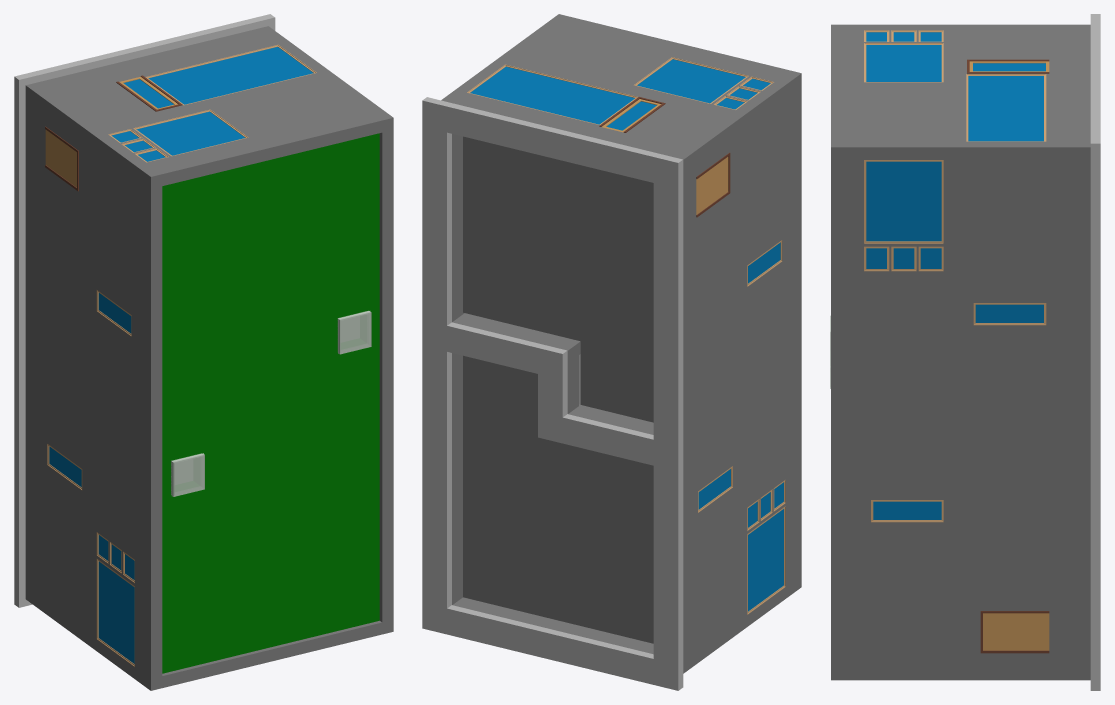
Rendered from DuplexNew.obj.
3 views of the same model, side by side, from view 1: azimuth 30°, elevation 25°; view 2: azimuth 150°, elevation 25°; view 3: azimuth 270°, elevation 25° (orthographic). The views are drawn at different scales.
Parts seen in each view (by area): view 1: Basic_Roof:Live_Roof_over_Wood_Joist_Flat_Roof:184483, Basic_Wall:Exterior_-_Brick_on_Block:138310, Basic_Wall:Exterior_-_Brick_on_Block:143590, Basic_Wall:Exterior_-_Brick_on_Block:185101, Basic_Wall:Foundation_-_Concrete_(417mm):140602, Basic_Wall:Exterior_-_Brick_on_Block:143410, Basic_Wall:Exterior_-_Brick_on_Block:185014, Basic_Wall:Exterior_-_Brick_on_Block:138062, Wall_Foundation:Bearing_Footing_-_900_x_300:186612, Basic_Wall:Exterior_-_Brick_on_Block:184944, Basic_Wall:Foundation_-_Concrete_(417mm):140479, M_Fixed:4835mm_x_2420mm:4835mm_x_2420mm:145788 (+11 smaller); view 2: Floor:127mm_Slab_on_Grade:143106, Floor:127mm_Slab_on_Grade:141232, Basic_Wall:Exterior_-_Brick_on_Block:138310, Basic_Wall:Exterior_-_Brick_on_Block:143590, Wall_Foundation:Bearing_Footing_-_900_x_300:186612, Wall_Foundation:Bearing_Footing_-_900_x_300:186596, Basic_Wall:Exterior_-_Brick_on_Block:143410, Wall_Foundation:Bearing_Footing_-_900_x_300:186604, Basic_Wall:Foundation_-_Concrete_(417mm):140602, Basic_Wall:Exterior_-_Brick_on_Block:138062, Wall_Foundation:Bearing_Footing_-_900_x_300:186620, M_Fixed:4835mm_x_2420mm:4835mm_x_2420mm:145788 (+18 smaller); view 3: Basic_Wall:Exterior_-_Brick_on_Block:138157, Basic_Wall:Exterior_-_Brick_on_Block:143478, Basic_Wall:Foundation_-_Concrete_(417mm):140520, Basic_Wall:Exterior_-_Brick_on_Block:185014, Basic_Wall:Exterior_-_Brick_on_Block:143410, Basic_Wall:Exterior_-_Brick_on_Block:138062, M_Fixed:2800mm_x_2410mm:2800mm_x_2410mm:181096, Wall_Foundation:Bearing_Footing_-_900_x_300:186596, Basic_Wall:Foundation_-_Concrete_(417mm):140479, M_Fixed:4835mm_x_2420mm:4835mm_x_2420mm:145788, M_Fixed:2800mm_x_2410mm:2800mm_x_2410mm:147686, M_Single-Flush:1250mm_x_2010mm:1250mm_x_2010mm:146596 (+8 smaller).
Part boxes in pixels (bbox=[...]): Basic_Roof:Live_Roof_over_Wood_Joist_Flat_Roof:184483: bbox=[162, 133, 379, 673]; Basic_Wall:Exterior_-_Brick_on_Block:138310: bbox=[45, 112, 94, 637]; Basic_Wall:Exterior_-_Brick_on_Block:143590: bbox=[95, 136, 141, 683]; Basic_Wall:Exterior_-_Brick_on_Block:185101: bbox=[141, 182, 162, 678]; Basic_Wall:Foundation_-_Concrete_(417mm):140602: bbox=[25, 97, 45, 601]; Basic_Wall:Exterior_-_Brick_on_Block:143410: bbox=[95, 77, 383, 169]; Basic_Wall:Exterior_-_Brick_on_Block:185014: bbox=[379, 130, 393, 634]; Basic_Wall:Exterior_-_Brick_on_Block:138062: bbox=[45, 40, 337, 147]; Wall_Foundation:Bearing_Footing_-_900_x_300:186612: bbox=[14, 70, 43, 581]; Basic_Wall:Exterior_-_Brick_on_Block:184944: bbox=[141, 110, 393, 188]; Basic_Wall:Foundation_-_Concrete_(417mm):140479: bbox=[25, 26, 287, 111]; M_Fixed:4835mm_x_2420mm:4835mm_x_2420mm:145788: bbox=[145, 44, 316, 105]; Floor:127mm_Slab_on_Grade:143106: bbox=[463, 355, 653, 643]; Floor:127mm_Slab_on_Grade:141232: bbox=[463, 136, 653, 422]; Basic_Wall:Exterior_-_Brick_on_Block:138310: bbox=[696, 126, 745, 651]; Basic_Wall:Exterior_-_Brick_on_Block:143590: bbox=[745, 80, 791, 627]; Wall_Foundation:Bearing_Footing_-_900_x_300:186612: bbox=[653, 153, 683, 664]; Wall_Foundation:Bearing_Footing_-_900_x_300:186596: bbox=[422, 97, 451, 634]; Basic_Wall:Exterior_-_Brick_on_Block:143410: bbox=[503, 21, 791, 113]; Wall_Foundation:Bearing_Footing_-_900_x_300:186604: bbox=[447, 605, 683, 690]; Basic_Wall:Foundation_-_Concrete_(417mm):140602: bbox=[683, 163, 696, 661]; Basic_Wall:Exterior_-_Brick_on_Block:138062: bbox=[454, 55, 745, 161]; Wall_Foundation:Bearing_Footing_-_900_x_300:186620: bbox=[447, 103, 657, 182]; M_Fixed:4835mm_x_2420mm:4835mm_x_2420mm:145788: bbox=[467, 64, 637, 124]; Basic_Wall:Exterior_-_Brick_on_Block:138157: bbox=[947, 160, 1049, 680]; Basic_Wall:Exterior_-_Brick_on_Block:143478: bbox=[851, 147, 946, 680]; Basic_Wall:Foundation_-_Concrete_(417mm):140520: bbox=[1049, 160, 1090, 680]; Basic_Wall:Exterior_-_Brick_on_Block:185014: bbox=[831, 160, 851, 680]; Basic_Wall:Exterior_-_Brick_on_Block:143410: bbox=[851, 24, 946, 147]; Basic_Wall:Exterior_-_Brick_on_Block:138062: bbox=[947, 24, 1049, 159]; M_Fixed:2800mm_x_2410mm:2800mm_x_2410mm:181096: bbox=[864, 160, 943, 243]; Wall_Foundation:Bearing_Footing_-_900_x_300:186596: bbox=[1090, 131, 1100, 690]; Basic_Wall:Foundation_-_Concrete_(417mm):140479: bbox=[1049, 24, 1090, 159]; M_Fixed:4835mm_x_2420mm:4835mm_x_2420mm:145788: bbox=[966, 74, 1046, 141]; M_Fixed:2800mm_x_2410mm:2800mm_x_2410mm:147686: bbox=[864, 43, 943, 82]; M_Single-Flush:1250mm_x_2010mm:1250mm_x_2010mm:146596: bbox=[980, 611, 1049, 653].
Bounding box in the file's own units: 9.28 × 18.28 × 8.18.
